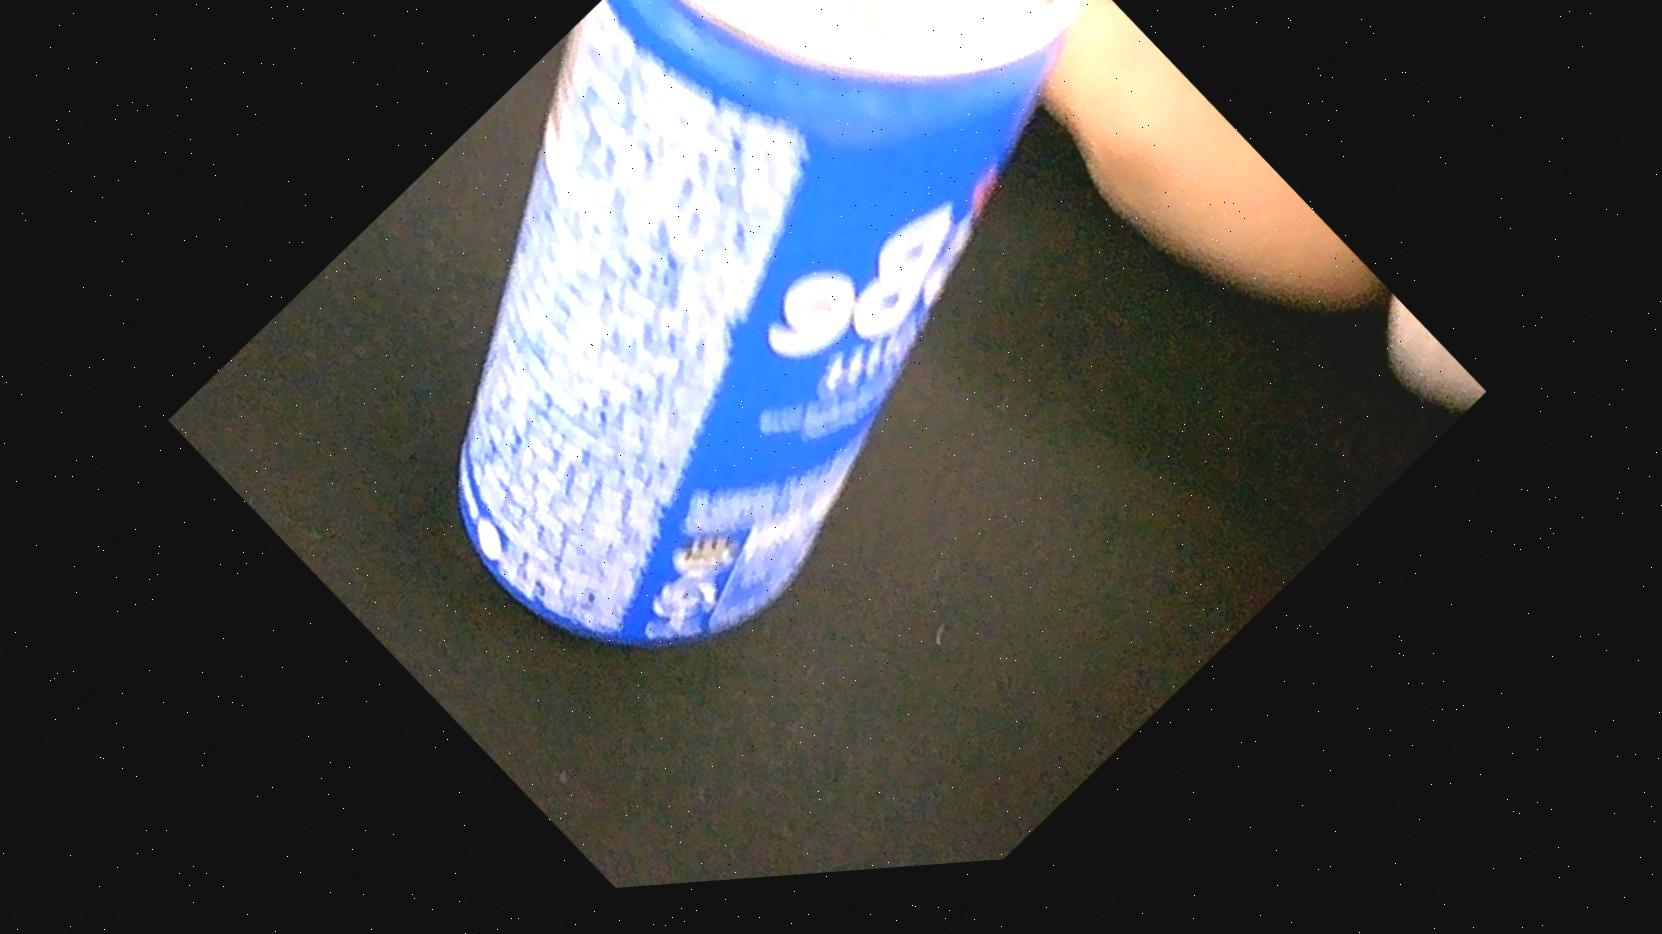letsbe: (259, 0, 1251, 762)
